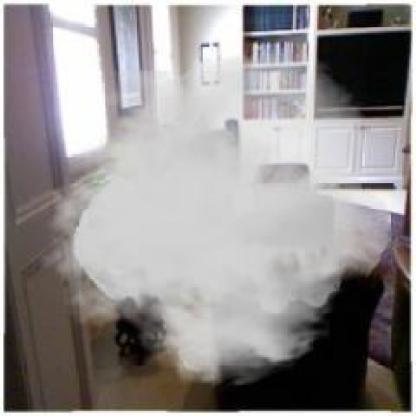Smoke: (37, 39, 393, 391)
